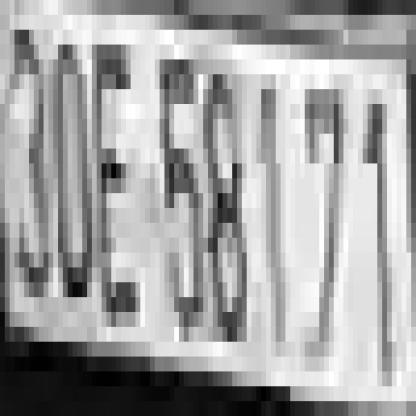0: (48, 30, 92, 282)
3: (14, 30, 48, 282)
5: (160, 45, 208, 312)
7: (300, 74, 343, 342)
8: (203, 74, 247, 327)
E: (92, 45, 140, 312)
